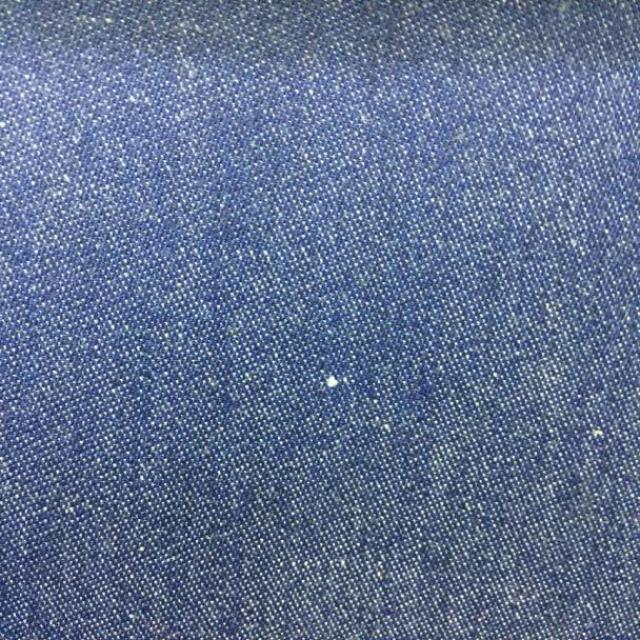Knot: (326, 376, 339, 388)
